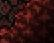crimstone: (0, 1, 54, 43)
